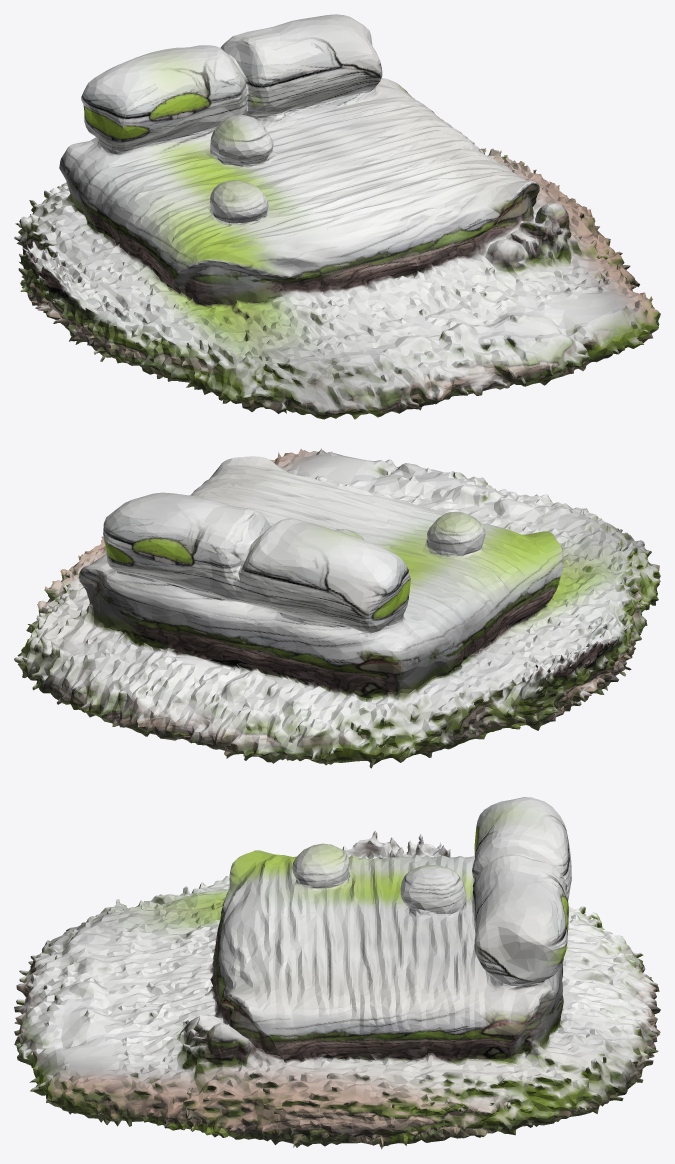
Rendered from altar_mother_mould.glb.
The picture shows the model from 3 angles, top to bottom: view 1: azimuth 30°, elevation 25°; view 2: azimuth 150°, elevation 25°; view 3: azimuth 270°, elevation 25°; orthographic projection. The views are drawn at different scales.
Visible parts, largest first — view 1: altar_mother_mould; view 2: altar_mother_mould; view 3: altar_mother_mould.
Part boxes in pixels (box(x1,y1,x2,y2)): altar_mother_mould: box(14, 14, 660, 419); altar_mother_mould: box(14, 448, 660, 768); altar_mother_mould: box(14, 797, 660, 1149).
Bounding box in the file's own units: 3.94 × 1.4 × 4.28.
1 material, 1 textured.
